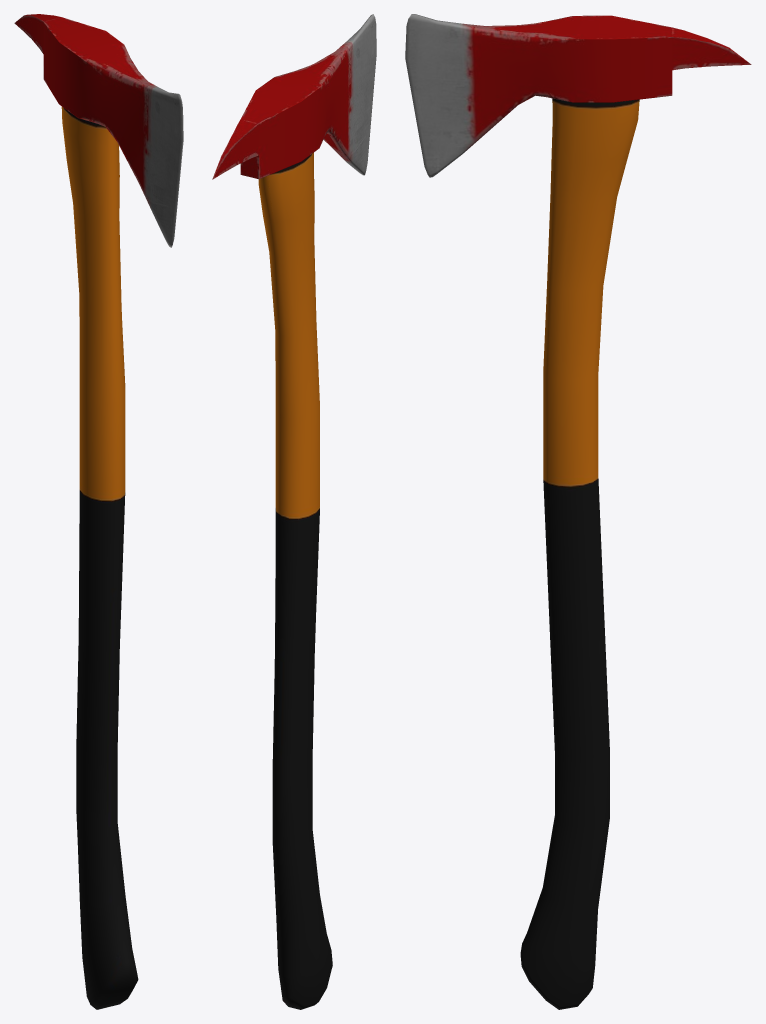
The model's file is fire_axe.glb.
3 renders of one model, left to right at view 1: azimuth 30°, elevation 25°; view 2: azimuth 150°, elevation 25°; view 3: azimuth 270°, elevation 25°, orthographic. The views are drawn at different scales.
Visible parts, largest first — view 1: pCylinder4; view 2: pCylinder4; view 3: pCylinder4.
Boxes of the visible parts, x1,y1,x2,y2 form: pCylinder4: [14, 14, 183, 1009]; pCylinder4: [212, 14, 376, 1009]; pCylinder4: [405, 14, 751, 1009].
Bounding box in the file's own units: 1.87 × 36.65 × 11.63.
1 material, 1 textured.
